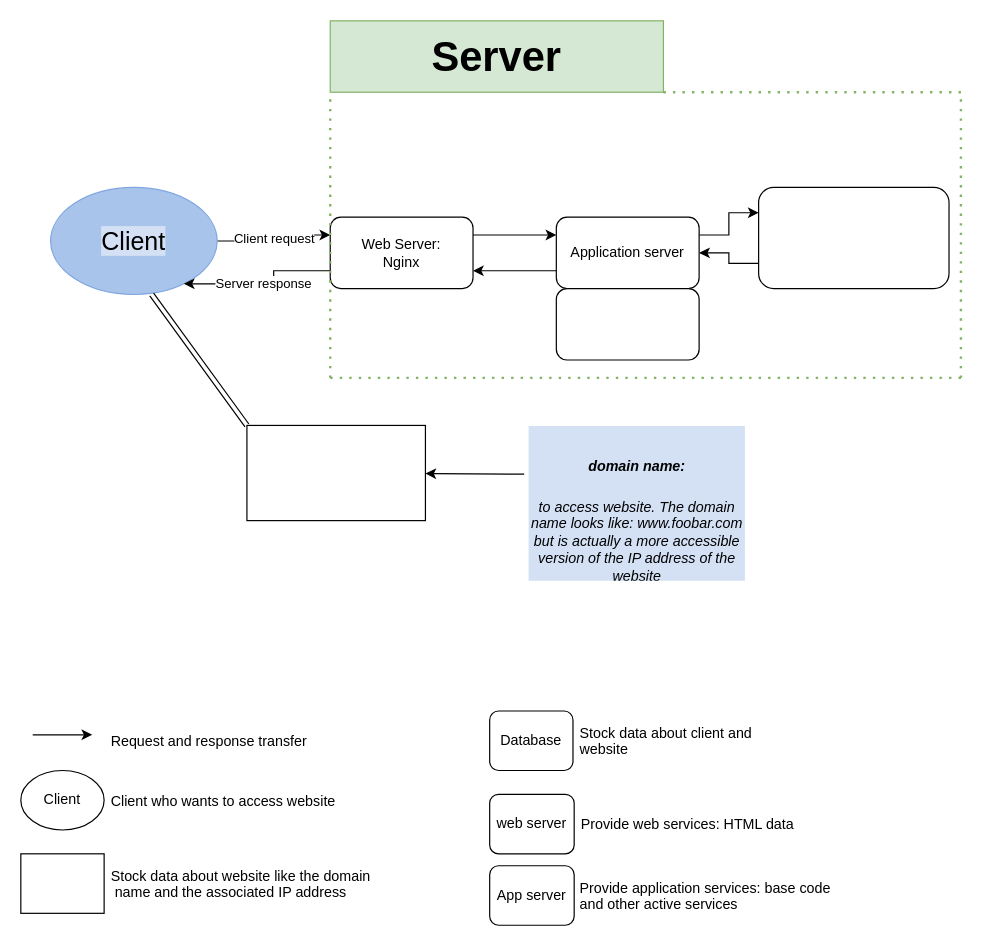
This 989x946 diagram has some shape labels left out. Here are the shapes that lost their labels. From the top down, the centre of each, then its label:
point 853,237: Database (MySQL): receive request and send response
point 627,323: Application files (base code)
point 335,472: DNS(www type) www.foobar.com = IP Address
point 62,883: DNS
